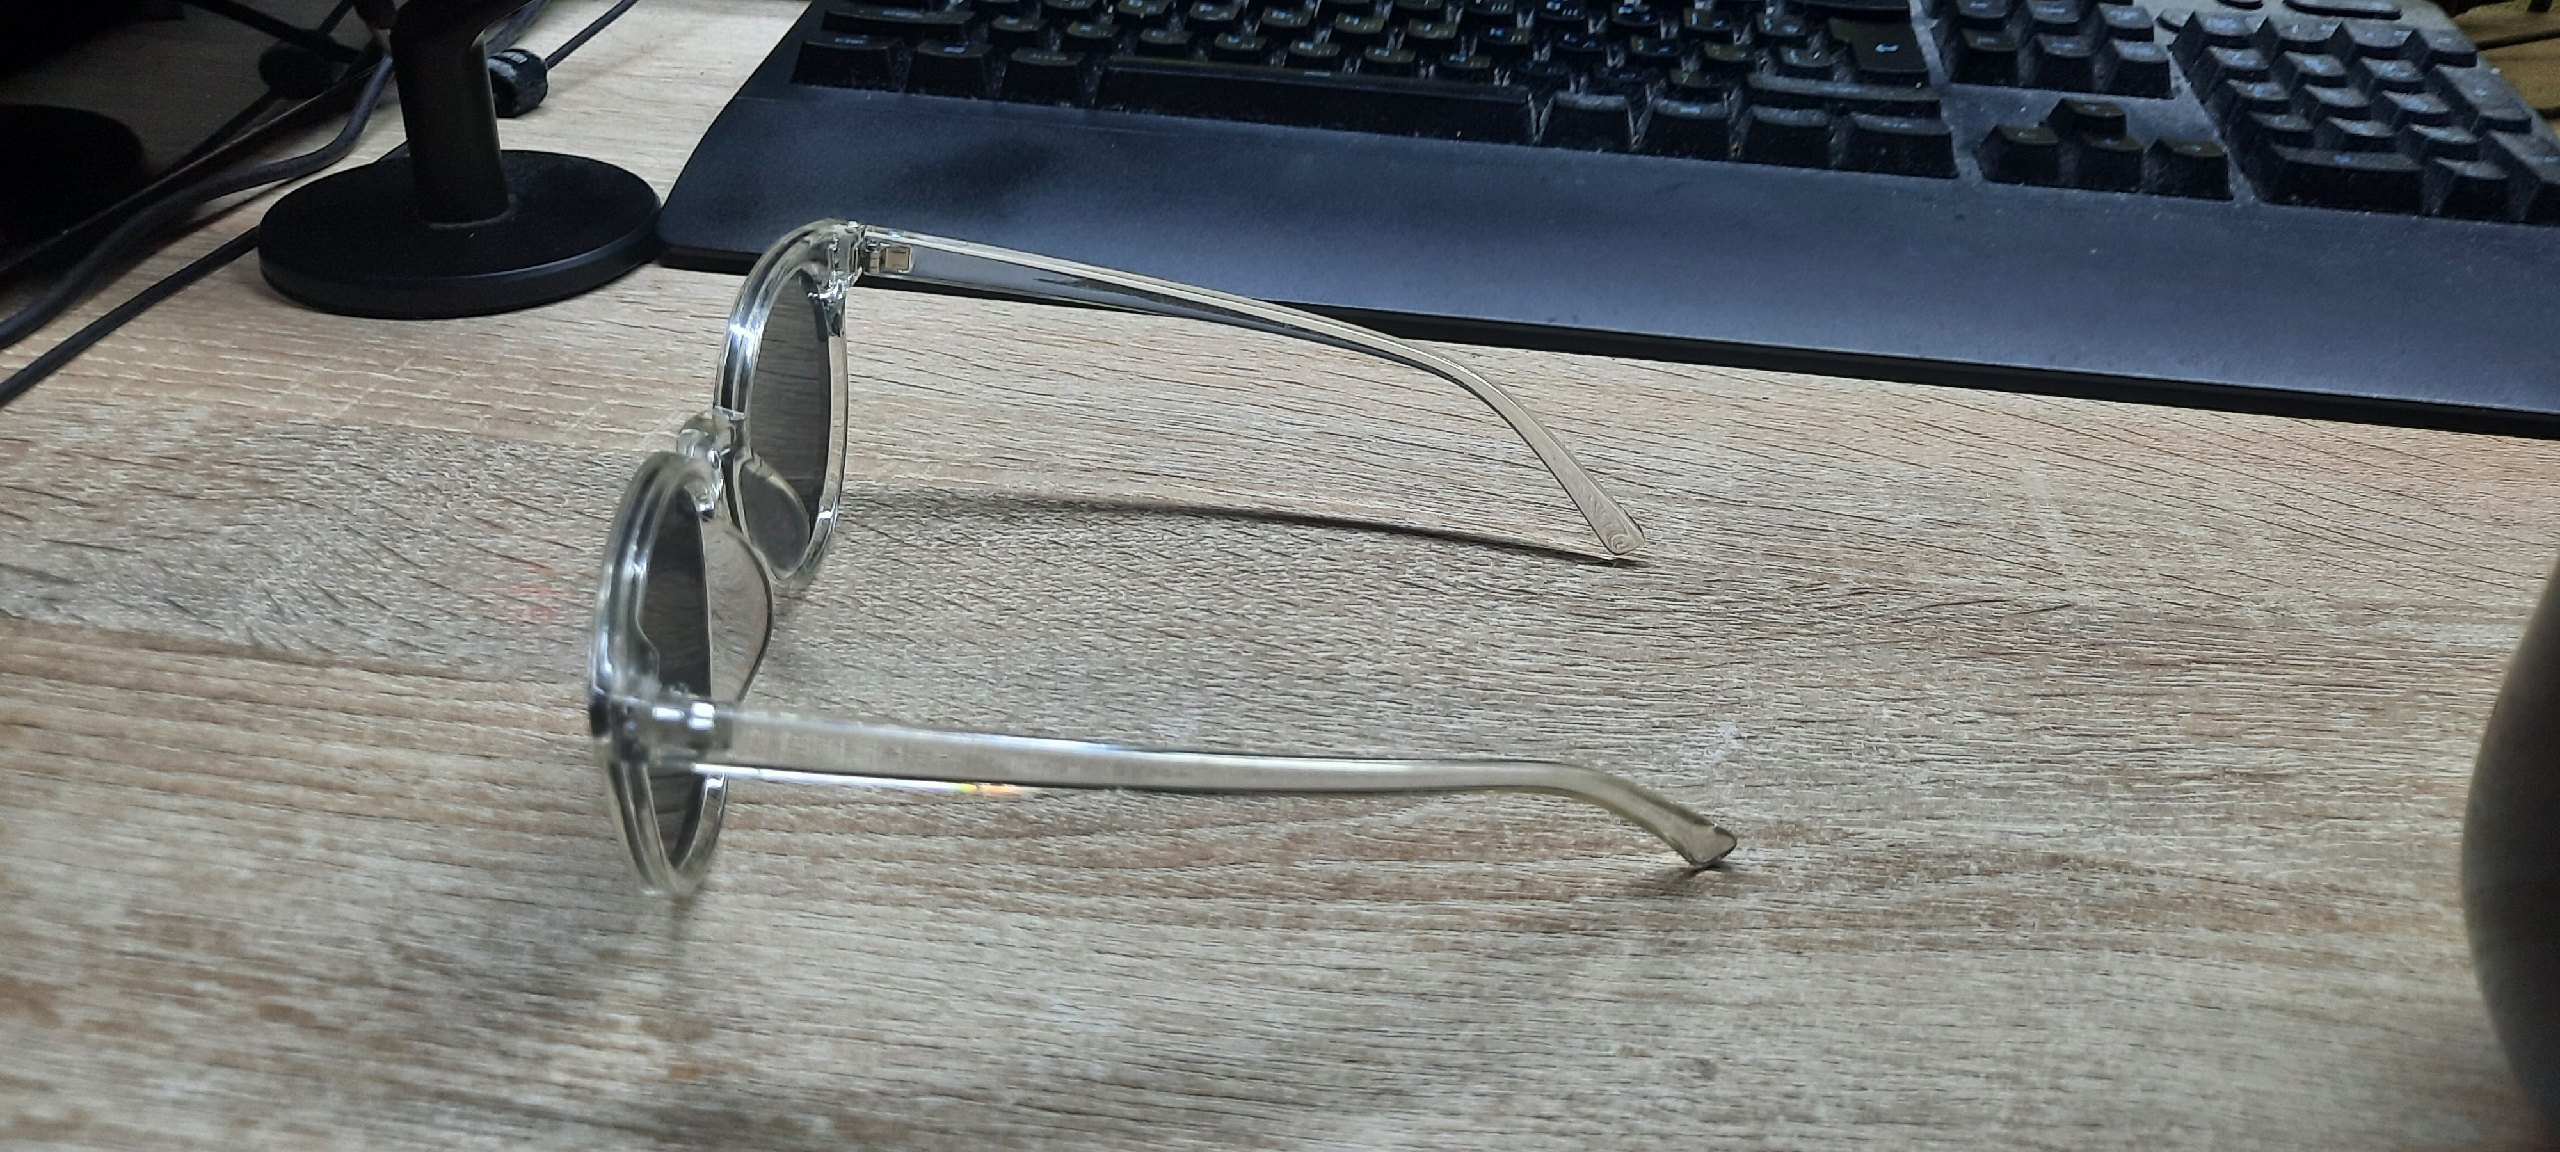glasses: (589, 220, 1732, 894)
